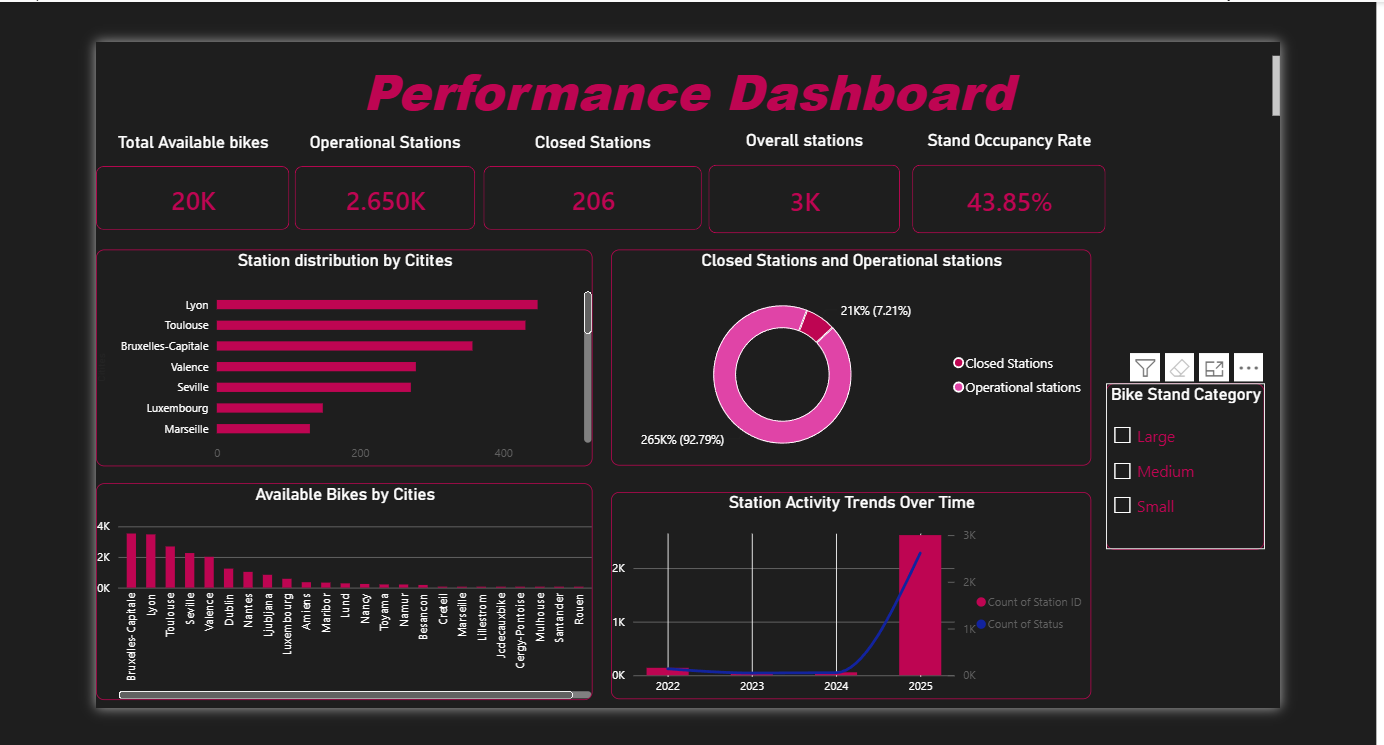

The page's visual inventory and layout, read from the dashboard file:
{"tool":"powerbi","page":{"name":"Performance Dashboard","canvas":[1280,720],"ordinal":0},"visuals":[{"type":"textbox","box":[9.7,14.5,1270.4,70],"z":0},{"type":"cardVisual","title":"Total Available bikes","fields":{"Data":["Sum(Station_Details.Available Bikes)"]},"box":[0,97.7,209.9,106.2],"z":1000},{"type":"cardVisual","title":"Operational Stations","fields":{"Data":["Station_Details.Operational stations"]},"box":[214.7,97.7,195.4,106.2],"z":2000},{"type":"cardVisual","title":"Closed Stations","fields":{"Data":["Station_Details.Closed Stations"]},"box":[418.6,97.7,236.5,106.2],"z":3000},{"type":"cardVisual","title":"Stand Occupancy Rate","fields":{"Data":["Station_Details.Stand Occupancy %"]},"box":[881.9,95.3,209.9,111],"z":4000},{"type":"cardVisual","title":"Overall stations","fields":{"Data":["Station_Details.Total Stations"]},"box":[662.3,95.3,207.5,111],"z":5000},{"type":"clusteredBarChart","title":"Station distribution by Citites","fields":{"Category":["Station_Details.Contract Name"],"Y":["CountNonNull(Station_Details.Station ID)"]},"box":[0,224.4,536.9,234],"z":6000},{"type":"donutChart","fields":{"Y":["Station_Details.Closed Stations","Station_Details.Operational stations"]},"box":[556.8,224.3,518.9,233.8],"z":7000},{"type":"columnChart","title":"Available Bikes by Cities","fields":{"Category":["Station_Details.Contract Name"],"Y":["Sum(Station_Details.Available Bikes)"]},"box":[0,476.5,536.9,234],"z":8000},{"type":"slicer","title":"Bike Stand Category","fields":{"Values":["Station_Details.Bike Stand Category"]},"box":[1091.8,369.2,171.3,179.8],"z":9001},{"type":"lineClusteredColumnComboChart","title":"Station Activity Trends Over Time","fields":{"Category":["Dim_Date.Year"],"Y":["CountNonNull(Station_Details.Station ID)"],"Y2":["CountNonNull(Station_Details.Status)"]},"box":[556.8,486.5,518.9,224.3],"z":9002}]}

Visuals, with their boxes on the page's 1280x720 design canvas (x1, y1, x2, y2). These are canvas units, not pixel positions in the 1384x745 screenshot, which may show the page scaled, cropped or inside an application window:
textbox: (10, 14, 1280, 84)
"Total Available bikes" cardVisual: (0, 98, 210, 204)
"Operational Stations" cardVisual: (215, 98, 410, 204)
"Closed Stations" cardVisual: (419, 98, 655, 204)
"Stand Occupancy Rate" cardVisual: (882, 95, 1092, 206)
"Overall stations" cardVisual: (662, 95, 870, 206)
"Station distribution by Citites" clusteredBarChart: (0, 224, 537, 458)
donutChart - Station_Details.Closed Stations x Station_Details.Operational stations: (557, 224, 1076, 458)
"Available Bikes by Cities" columnChart: (0, 476, 537, 710)
"Bike Stand Category" slicer: (1092, 369, 1263, 549)
"Station Activity Trends Over Time" lineClusteredColumnComboChart: (557, 486, 1076, 711)
